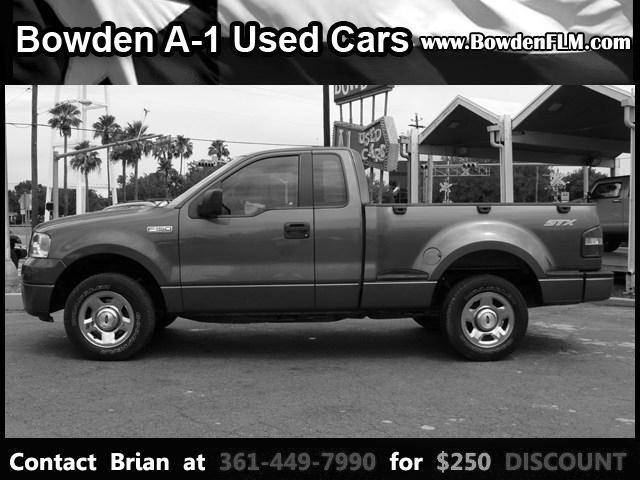car: (24, 150, 618, 362)
